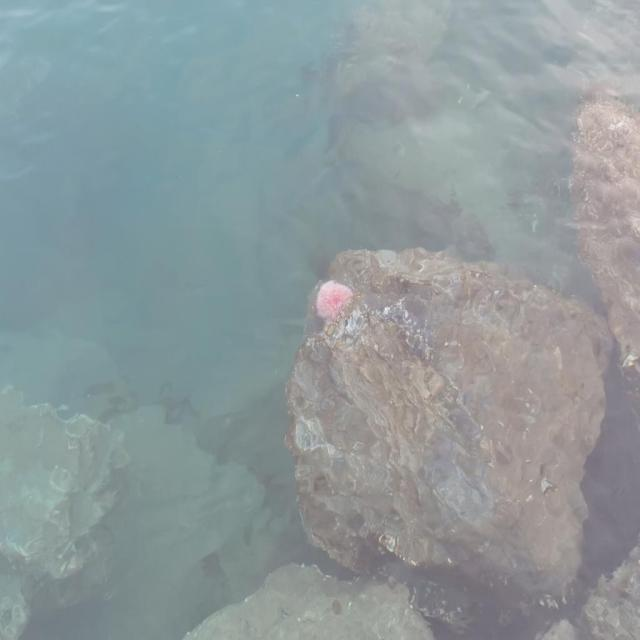Deniz Kestanesi: (317, 280, 351, 321)
